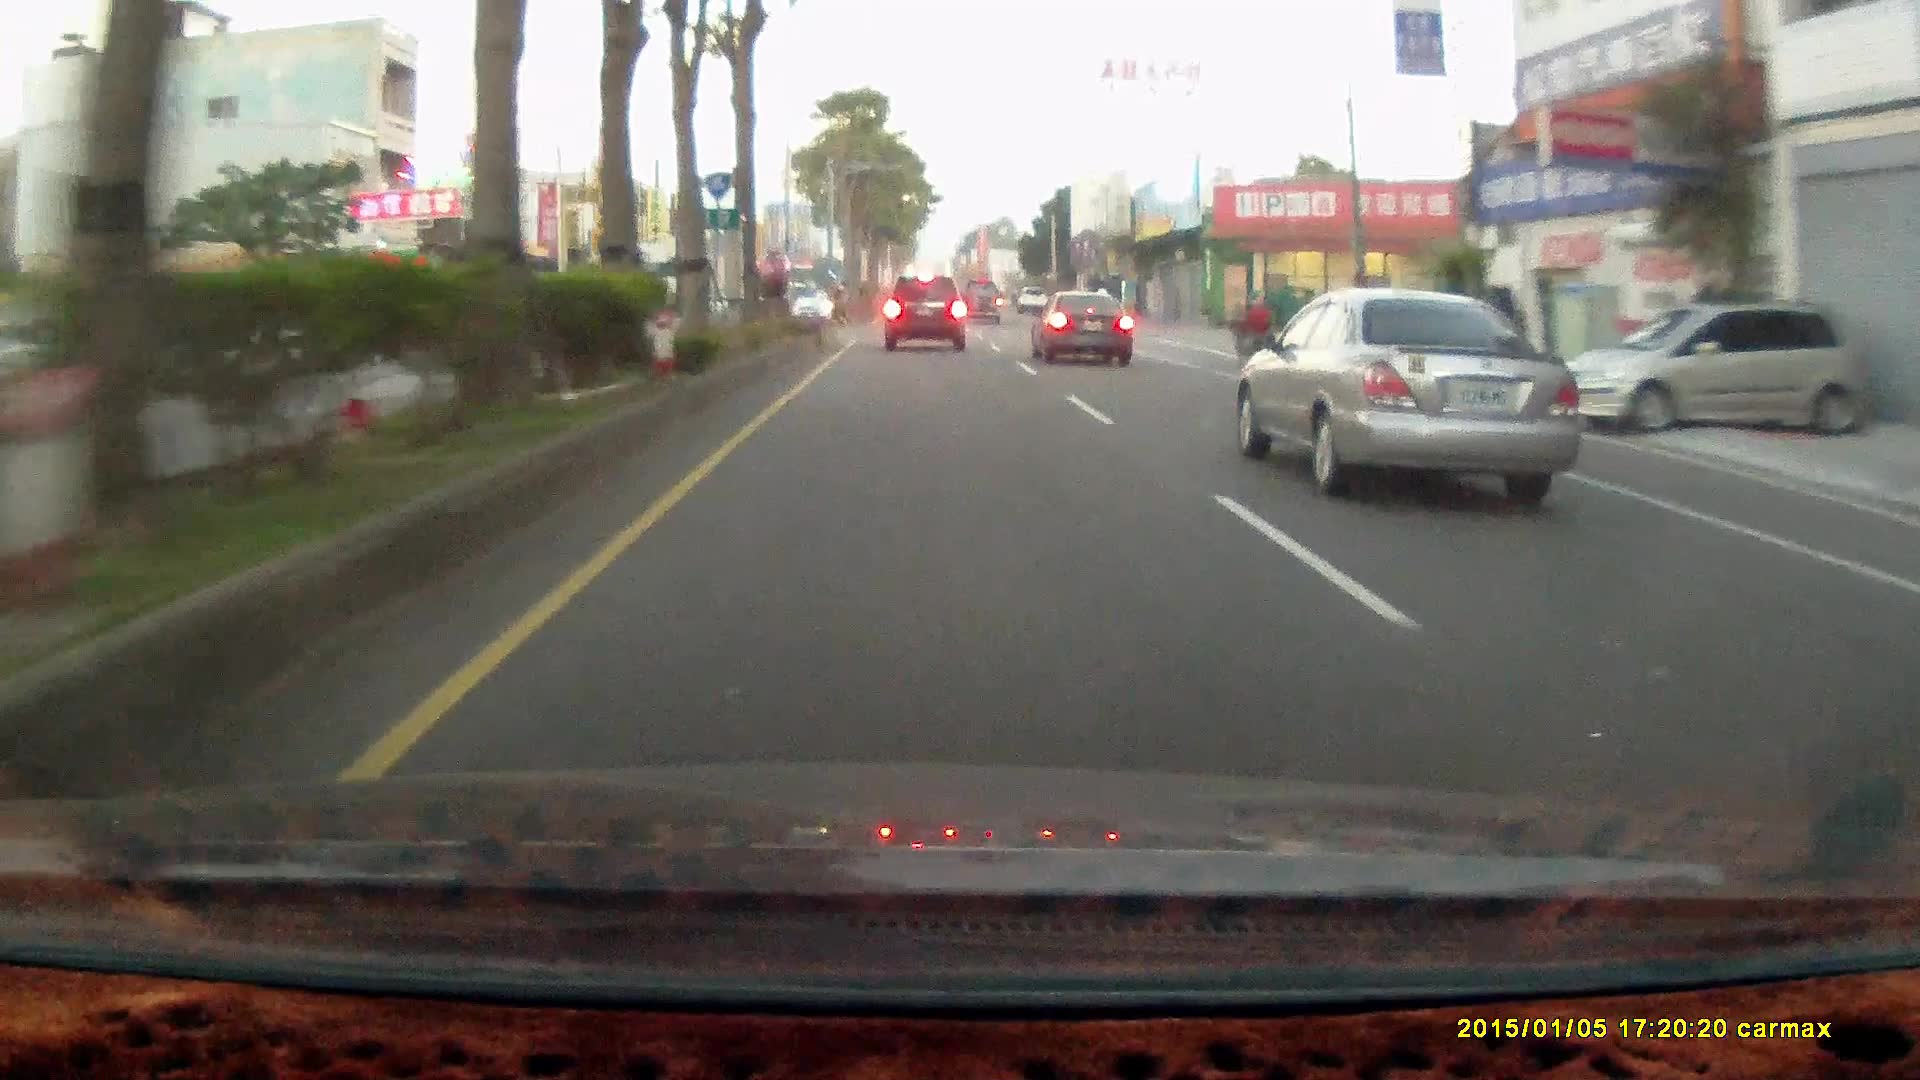pedestrian: (1244, 293, 1274, 368), (1246, 295, 1274, 364)
vehicle: (1238, 294, 1575, 505), (1567, 298, 1863, 436), (1566, 304, 1862, 442), (1031, 292, 1137, 371), (1030, 283, 1132, 362), (882, 271, 970, 351), (883, 279, 964, 354), (767, 275, 830, 331), (959, 277, 1002, 323)
